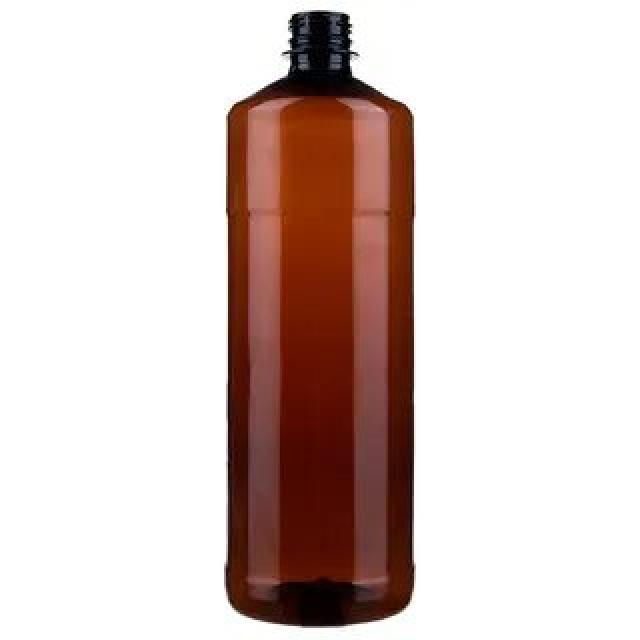brown: (225, 12, 417, 623)
